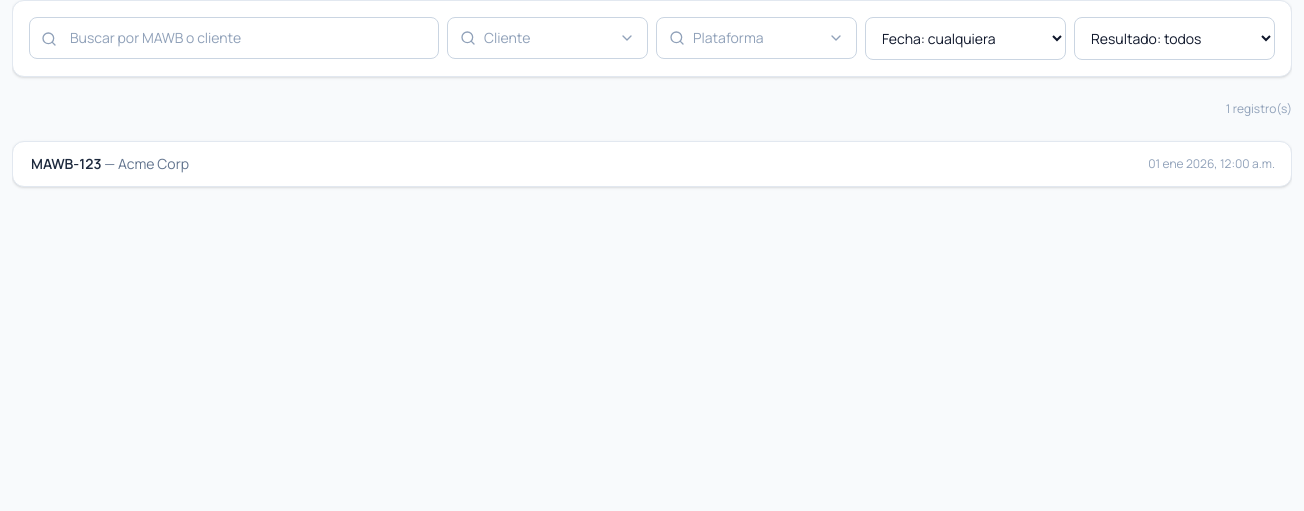
Test case: ConsultaView › renders a generated-files panel per pedimento with Análisis de Riesgo / Pedimento / Reporte General tabs
Click the text "MAWB-123" at (66, 164), box x1=31 y1=154 x2=101 y2=173
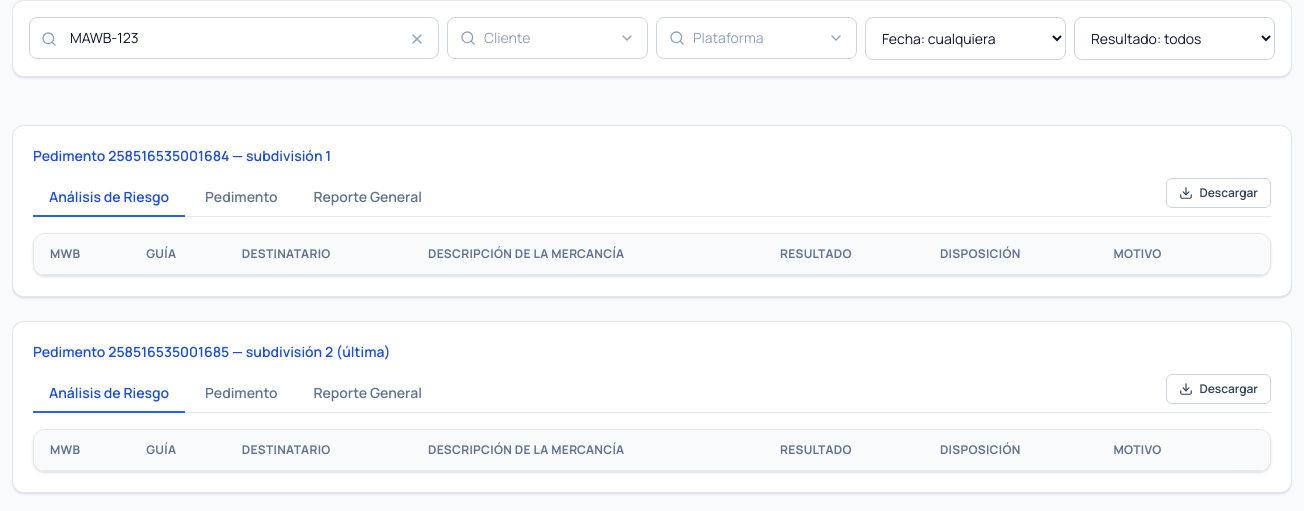
Expected: the heading "Pedimento 258516535001684 — subdivisión 1" is shown, x1=33 y1=146 x2=331 y2=165
Expected: the heading "Pedimento 258516535001685 — subdivisión 2 (última)" is shown, x1=33 y1=342 x2=390 y2=361
Expected: the number of buttons "Análisis de Riesgo" is 2, x1=33 y1=178 x2=185 y2=216; x1=33 y1=374 x2=185 y2=412
